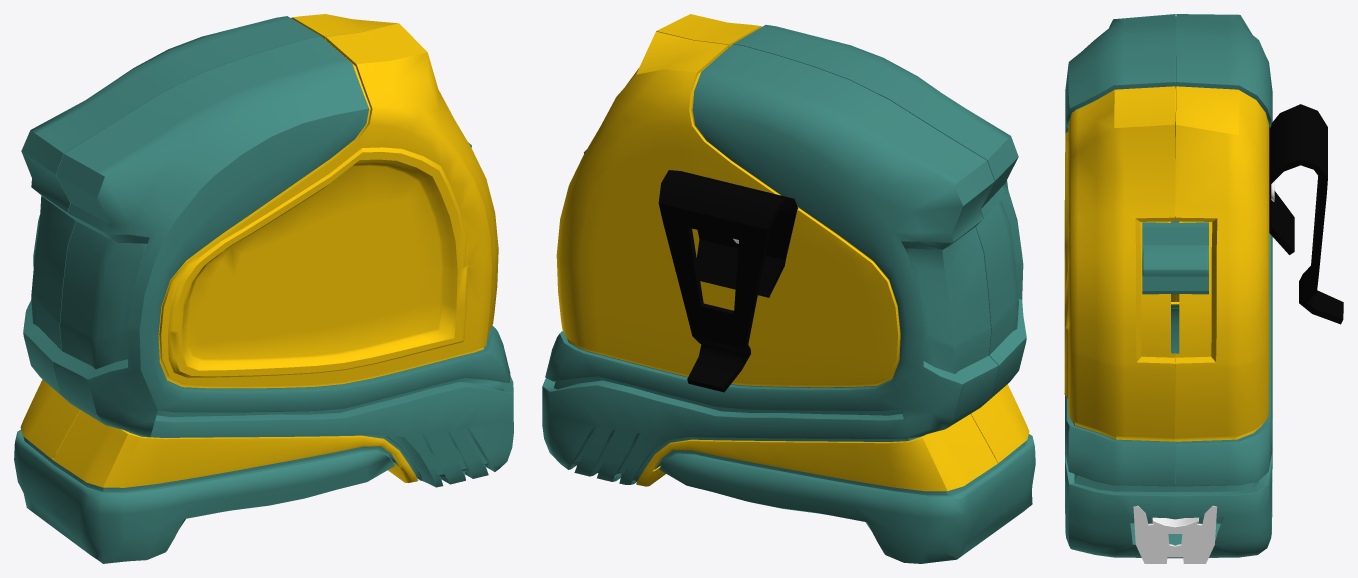
Rendered from Meteran.fbx.
The picture shows the model from 3 angles, left to right: view 1: azimuth 30°, elevation 25°; view 2: azimuth 150°, elevation 25°; view 3: azimuth 270°, elevation 25°; orthographic projection. The views are drawn at different scales.
Parts seen in each view (by area): view 1: Meteran; view 2: Meteran; view 3: Meteran.
Part boxes in pixels (box(x1,y1,x2,y2)): Meteran: box(14, 14, 513, 563); Meteran: box(542, 14, 1035, 563); Meteran: box(1064, 14, 1343, 563).
Size of the model in its own units: 14.14 by 13.73 by 8.24.
